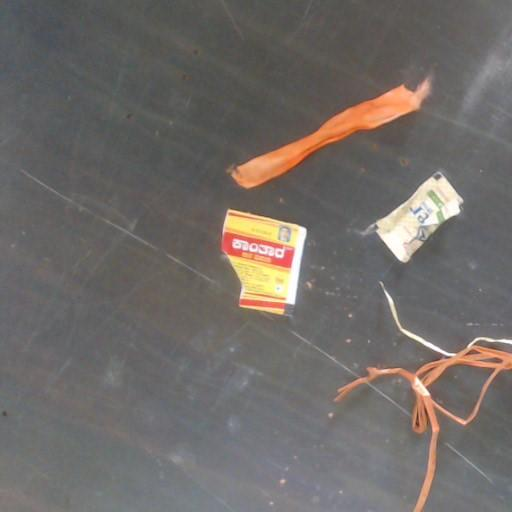cloth: (229, 77, 431, 188)
conveyor belt: (426, 372, 511, 511), (430, 367, 485, 417)
packet: (359, 172, 461, 261), (221, 210, 306, 315)
thread: (336, 338, 511, 511), (379, 282, 456, 356), (467, 336, 511, 347)
